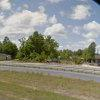Tree: (19, 16, 94, 62)
